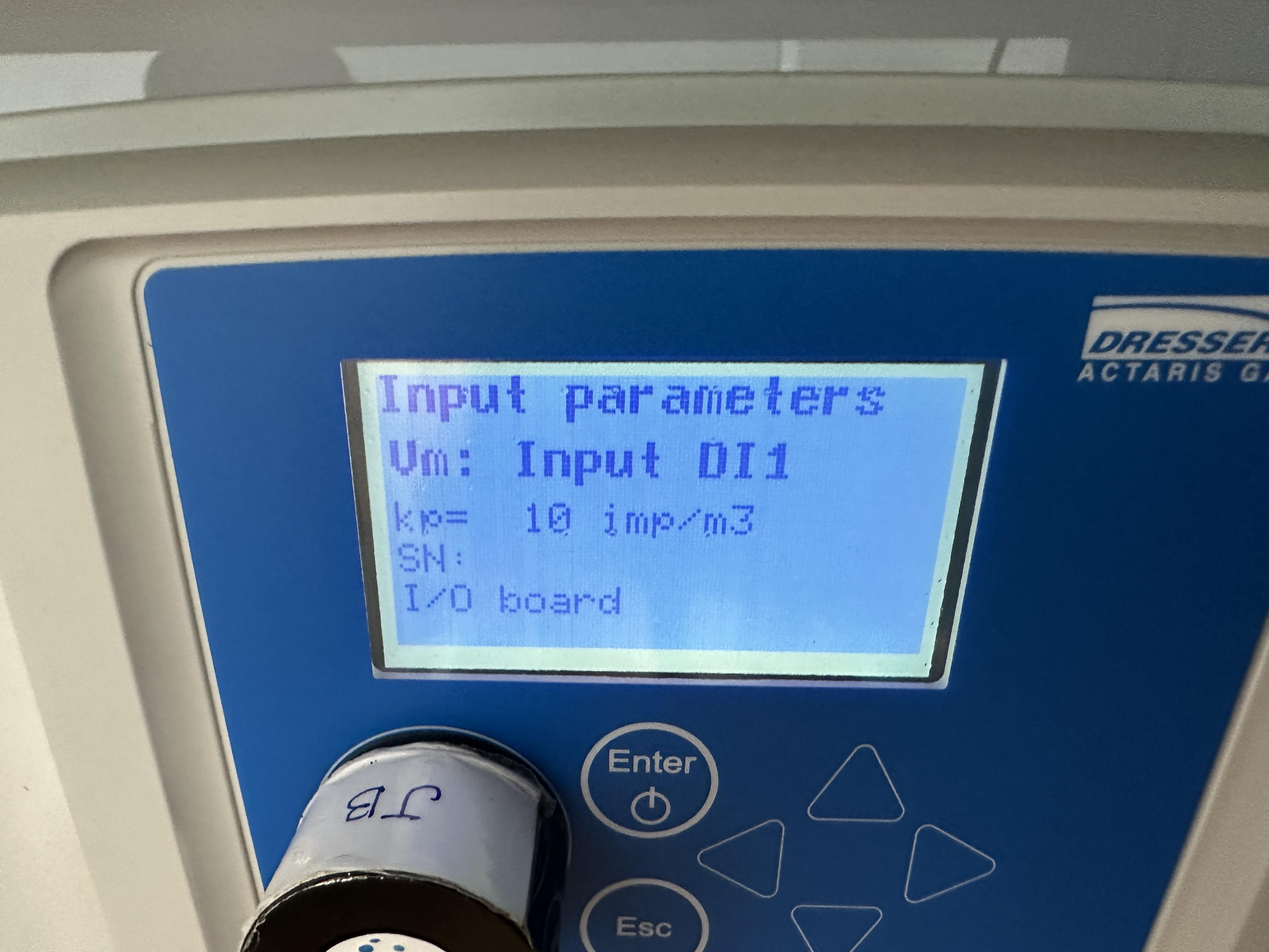digital_screen: (352, 354, 985, 678)
